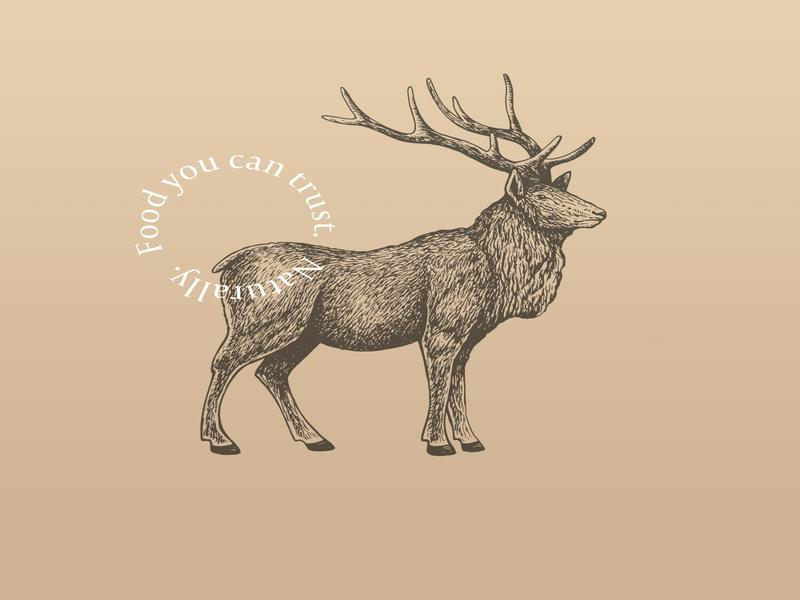elk: (197, 73, 606, 473)
